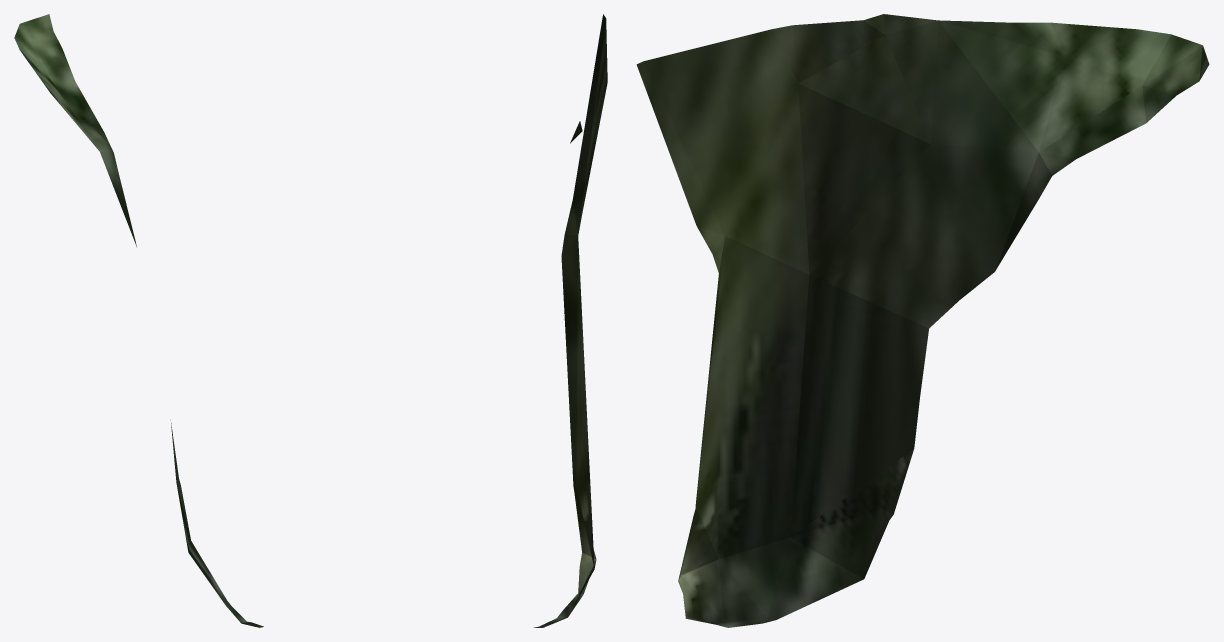
The picture shows the model from 3 angles, left to right: view 1: azimuth 30°, elevation 25°; view 2: azimuth 150°, elevation 25°; view 3: azimuth 270°, elevation 25°; orthographic projection. The views are drawn at different scales.
Size of the model in its own units: 0.2374 by 1.24 by 1.14.
Materials: 1 (1 with a texture image).
